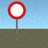sign: (8, 1, 26, 33)
